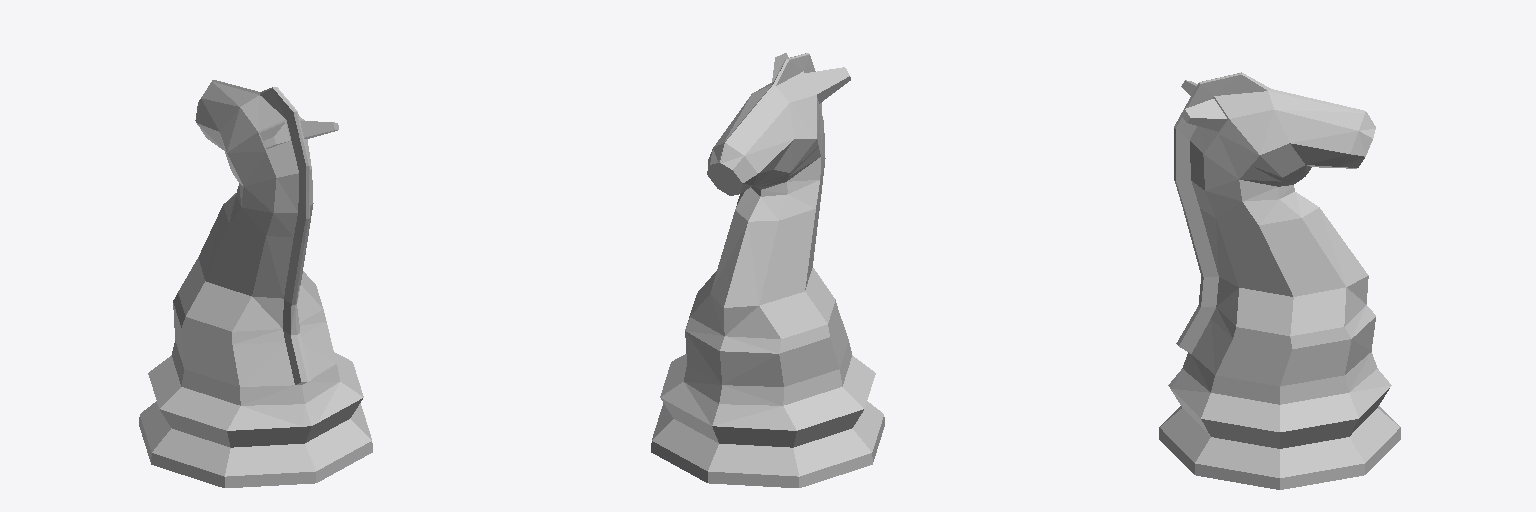
Rendered from knight.obj.
The picture shows the model from 3 angles: view 1: azimuth 30°, elevation 25°; view 2: azimuth 150°, elevation 25°; view 3: azimuth 270°, elevation 25°; orthographic projection.
Parts seen in each view (by area): view 1: Knight; view 2: Knight; view 3: Knight.
Part boxes in pixels (x1,y1,x2,y2): Knight: (139, 80, 372, 487); Knight: (651, 53, 884, 487); Knight: (1159, 72, 1400, 489).
Bounding box in the file's own units: 4 × 6.68 × 4.